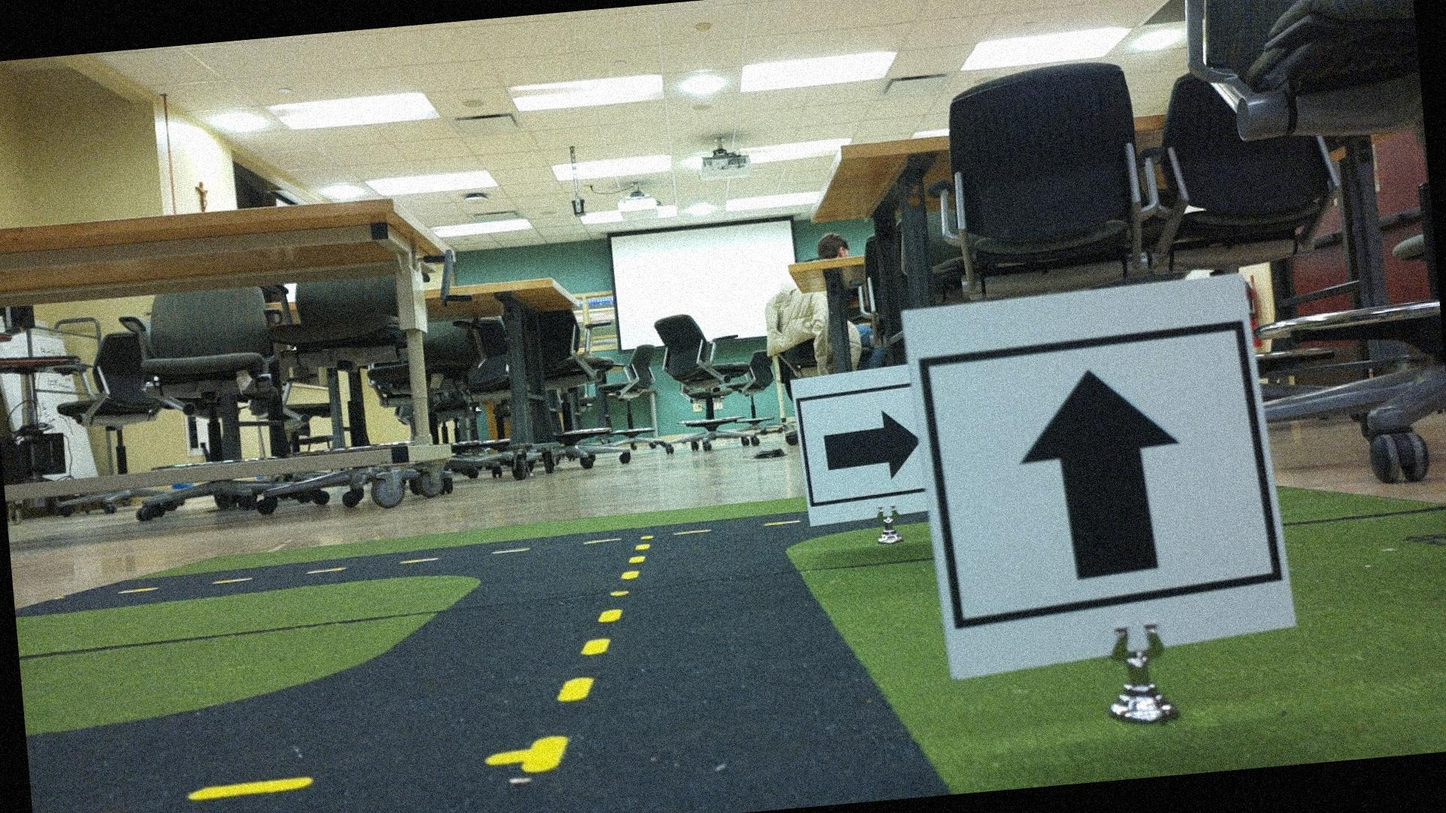gostraight: (920, 284, 1268, 670)
turnleft: (801, 385, 928, 519)
yellowline: (506, 542, 666, 773)
